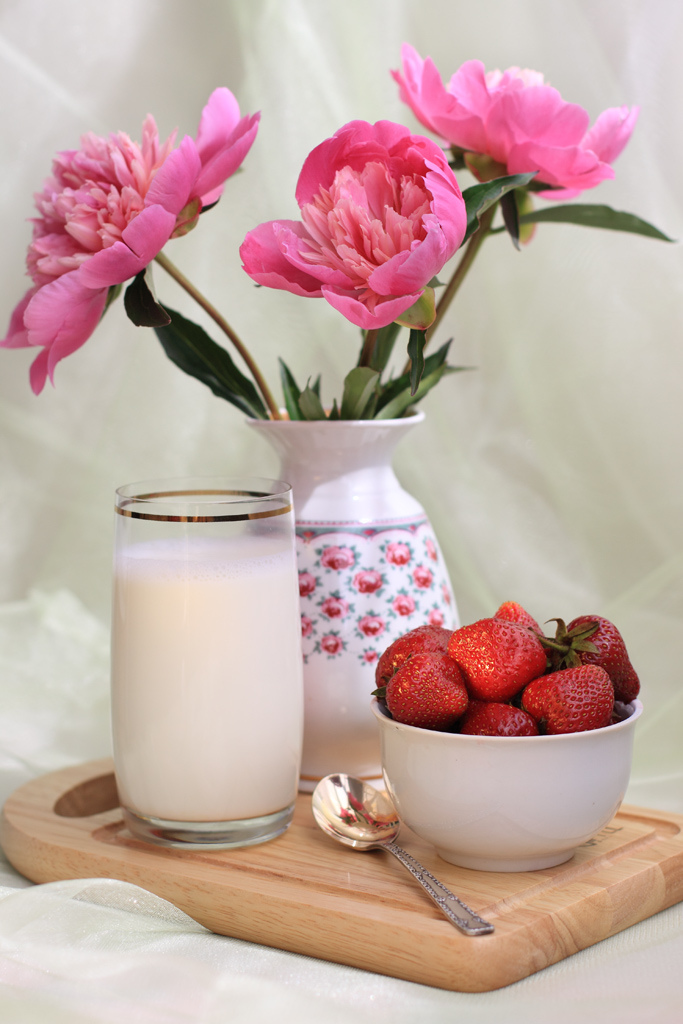glass of milk: (114, 479, 305, 838)
